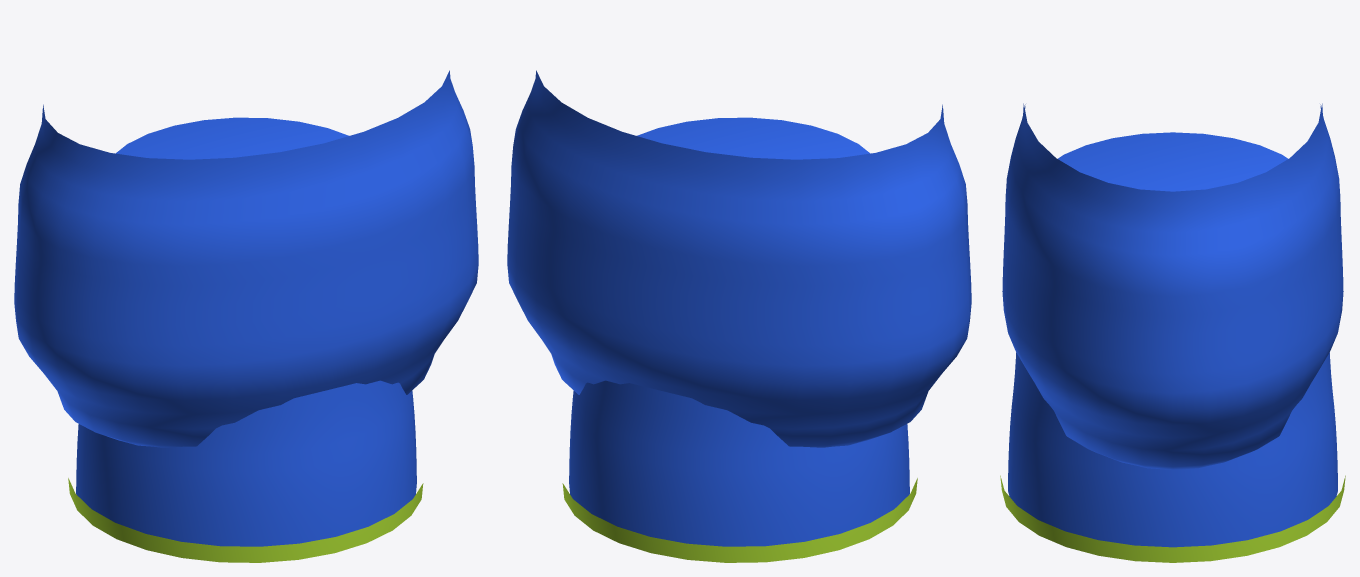
File: bottom_shorts_male.glb
The picture shows the model from 3 angles, left to right: view 1: azimuth 30°, elevation 25°; view 2: azimuth 150°, elevation 25°; view 3: azimuth 270°, elevation 25°; orthographic projection. The views are drawn at different scales.
Parts seen in each view (by area): view 1: pants, pant_leg, hem; view 2: pants, pant_leg, hem; view 3: pants, pant_leg, hem.
Boxes of the visible parts, x1,y1,x2,y2 form: pants: (14, 70, 478, 447); pant_leg: (76, 117, 416, 546); hem: (68, 478, 423, 562); pants: (507, 70, 971, 447); pant_leg: (569, 117, 909, 546); hem: (562, 478, 917, 562); pants: (1002, 103, 1343, 469); pant_leg: (1008, 132, 1337, 547); hem: (1000, 475, 1345, 562).
Bounding box in the file's own units: 0.3199 × 0.285 × 0.2301.
